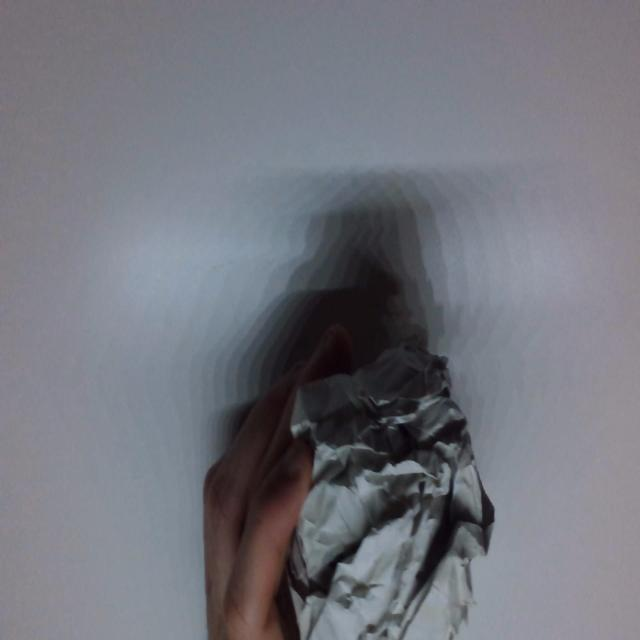Paper: (291, 338, 489, 640)
